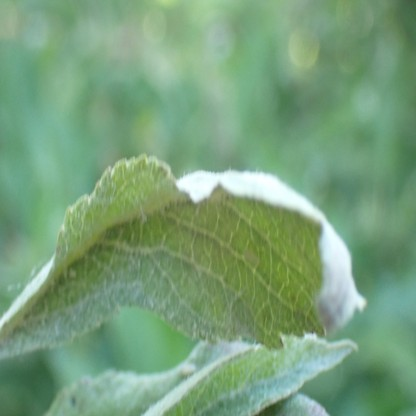powdery_mildew: (1, 152, 368, 351), (47, 333, 357, 416)
